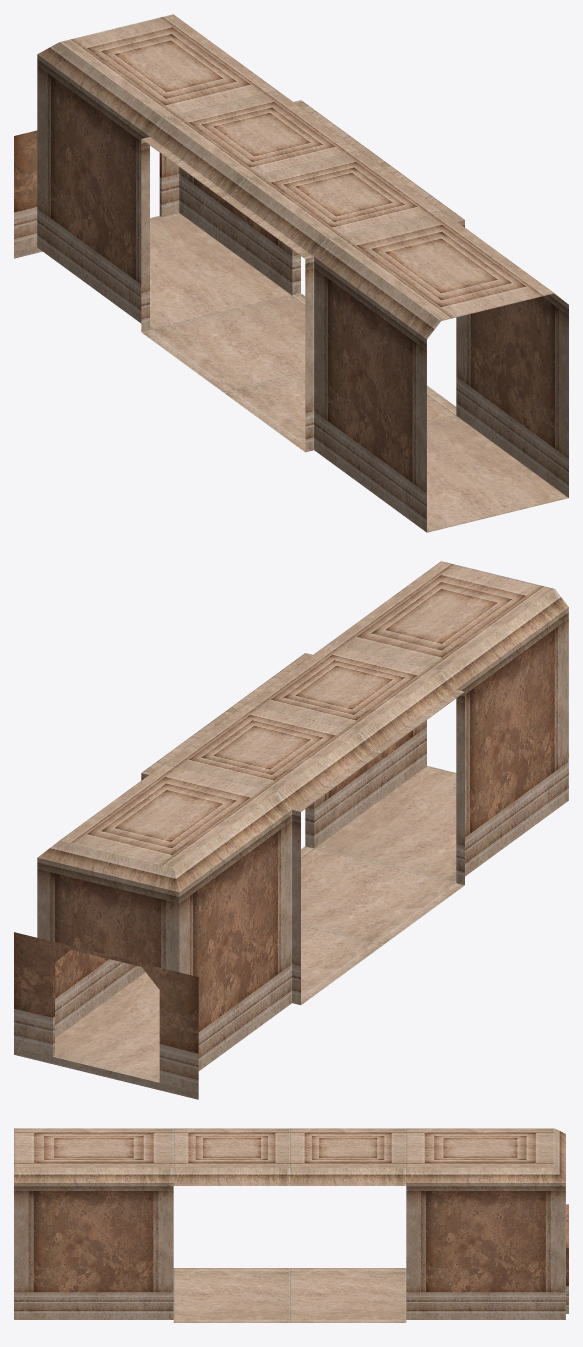
Rendered from thm_nboo_thed_emp_retreat_r9_hall4_mesh_r9_l0.fbx.
3 views of the same model, one above another, from view 1: azimuth 30°, elevation 25°; view 2: azimuth 150°, elevation 25°; view 3: azimuth 270°, elevation 25° (orthographic). The views are drawn at different scales.
Visible parts, largest first — view 1: mesh_node; view 2: mesh_node; view 3: mesh_node.
Part boxes in pixels (box(x1,y1,x2,y2)): mesh_node: box(14, 14, 568, 532); mesh_node: box(14, 561, 568, 1099); mesh_node: box(14, 1128, 568, 1322).
Bounding box in the file's own units: 5.2 × 5.8 × 19.1.
